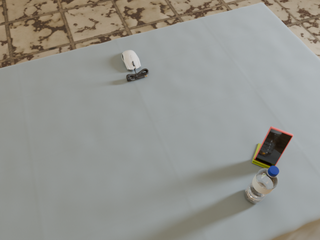bottle: (245, 165, 279, 203)
mouse: (122, 50, 141, 71)
phone: (255, 127, 293, 166)
